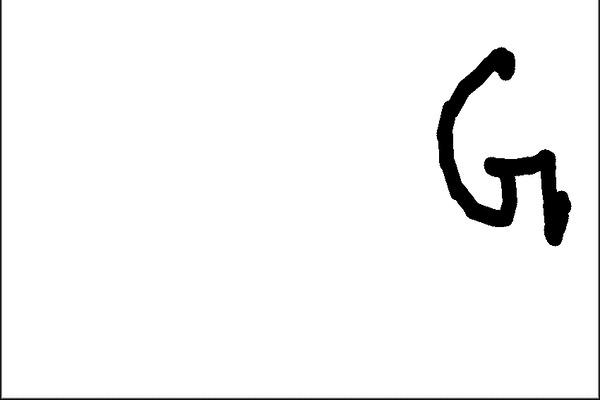G: (431, 40, 574, 251)
